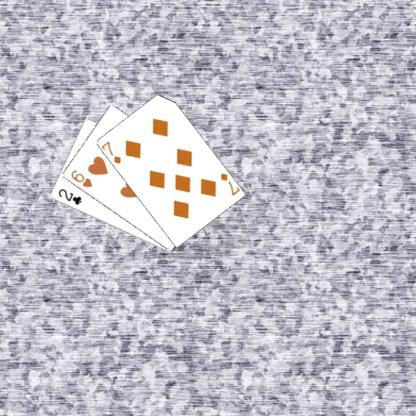2C: (56, 186, 82, 206)
6H: (68, 168, 93, 188)
7D: (99, 138, 122, 165), (217, 170, 240, 197)
